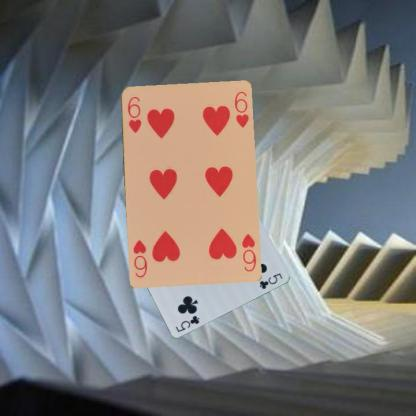5c: (174, 312, 200, 332)
6h: (239, 230, 257, 272), (125, 94, 143, 134)
